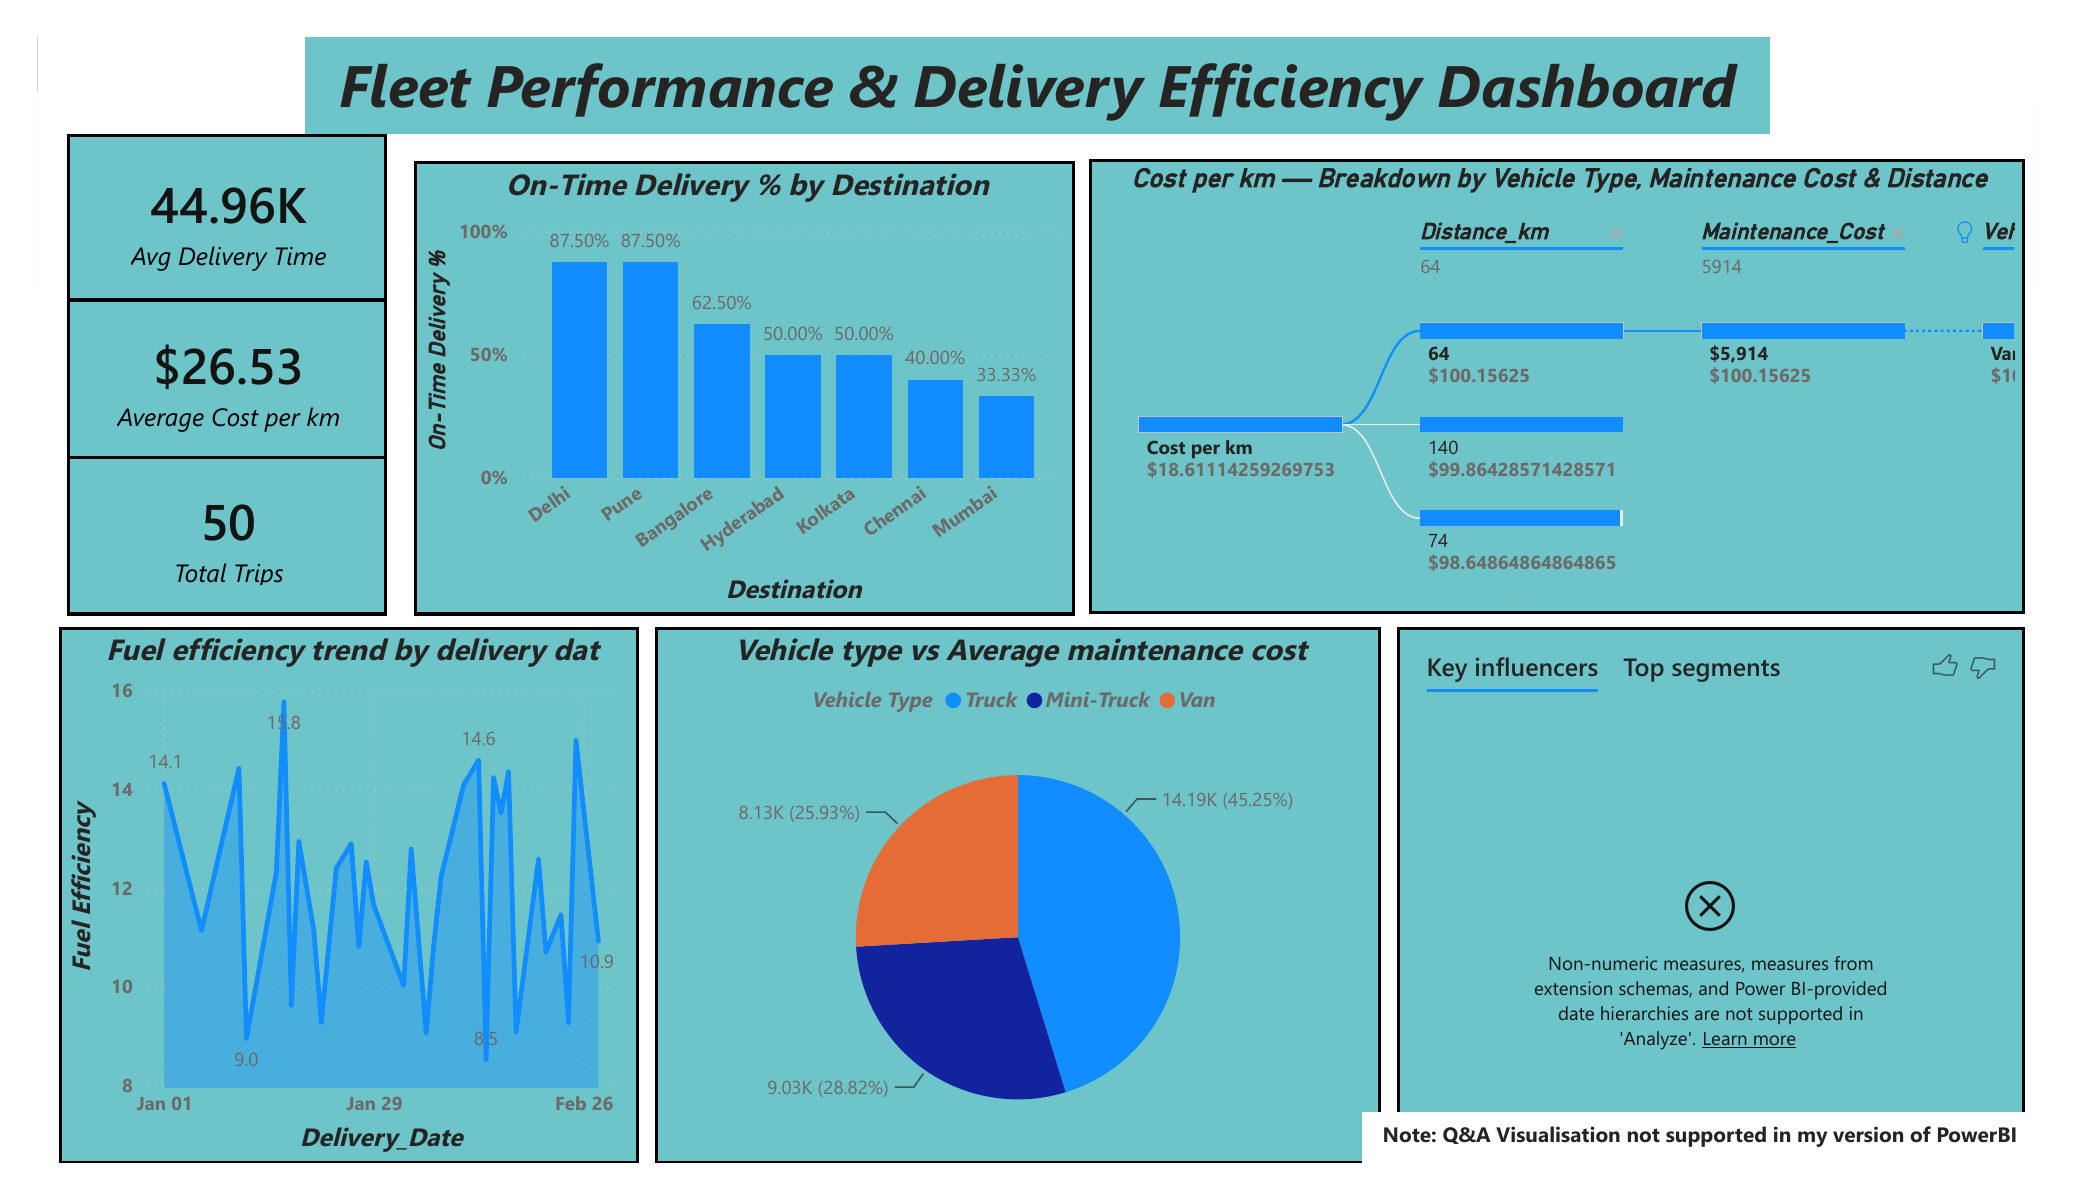

Layout of this report page (visuals, bound fields, positions):
{"tool":"powerbi","page":{"name":"Fleet Performance & Delivery Efficiency Dashboard","canvas":[1280,720],"ordinal":0},"visuals":[{"type":"clusteredColumnChart","title":"On-Time Delivery % by Destination","fields":{"Category":["TripData.Destination"],"Y":["TripData.On-Time Delivery %"]},"box":[240.5,78.8,423.4,291],"z":0},{"type":"lineChart","title":" Fuel efficiency trend by delivery dat","fields":{"Category":["TripData.Delivery_Date"],"Y":["TripData.Fuel Efficiency"]},"box":[14.1,376.9,370.9,343.6],"z":1000},{"type":"cardVisual","fields":{"Data":["TripData.Average Cost per km"]},"box":[19,164.5,205,108],"z":2000},{"type":"cardVisual","fields":{"Data":["TripData.Avg Delivery Time"]},"box":[19,62,205,107],"z":3000},{"type":"pieChart","title":"Vehicle type vs Average maintenance cost","fields":{"Category":["Vehicle.Vehicle_Type"],"Y":["Vehicle.Average Maintenance Cost"]},"box":[395.1,376.9,464.8,343.6],"z":4000},{"type":"keyDriversVisual","fields":{"ExplainBy":["TripData.Driver_ID","TripData.Distance_km","Vehicle.Vehicle_Type"],"Target":["TripData.Delivery Status (Measure)"]},"box":[870.1,376.9,402.2,343.6],"z":5000},{"type":"decompositionTreeVisual","title":"Cost per km — Breakdown by Vehicle Type, Maintenance Cost & Distance","fields":{"Analyze":["TripData.Cost per km"],"ExplainBy":["TripData.Distance_km","Vehicle.Maintenance_Cost","Vehicle.Vehicle_Type"]},"box":[673,77.8,599.2,291],"z":5001},{"type":"textbox","box":[171.1,0,937.8,61.6],"z":5002},{"type":"textbox","box":[847.8,688.2,432.5,32.3],"z":5003},{"type":"cardVisual","fields":{"Data":["TripData.Total Trips"]},"box":[19,268,205,102],"z":5004}]}

Visuals, with their boxes in screenshot pixels (x1, y1, x2, y2):
"On-Time Delivery % by Destination" clusteredColumnChart: Rect(409, 159, 1062, 608)
" Fuel efficiency trend by delivery dat" lineChart: Rect(60, 619, 632, 1149)
cardVisual - TripData.Average Cost per km: Rect(67, 291, 383, 458)
cardVisual - TripData.Avg Delivery Time: Rect(67, 133, 383, 298)
"Vehicle type vs Average maintenance cost" pieChart: Rect(647, 619, 1364, 1149)
keyDriversVisual - TripData.Driver_ID x TripData.Distance_km: Rect(1380, 619, 2000, 1149)
"Cost per km — Breakdown by Vehicle Type, Maintenance Cost & Distance" decompositionTreeVisual: Rect(1076, 158, 2000, 607)
textbox: Rect(302, 38, 1748, 133)
textbox: Rect(1345, 1099, 2012, 1149)
cardVisual - TripData.Total Trips: Rect(67, 451, 383, 608)
